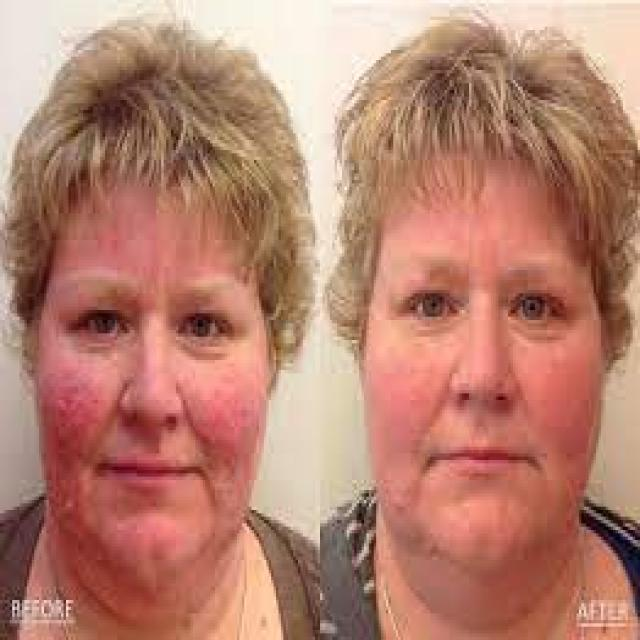Rosacea: (67, 194, 230, 280), (364, 345, 452, 491), (399, 180, 562, 257), (40, 355, 106, 520), (524, 338, 601, 463), (181, 354, 260, 468), (114, 512, 192, 557)
